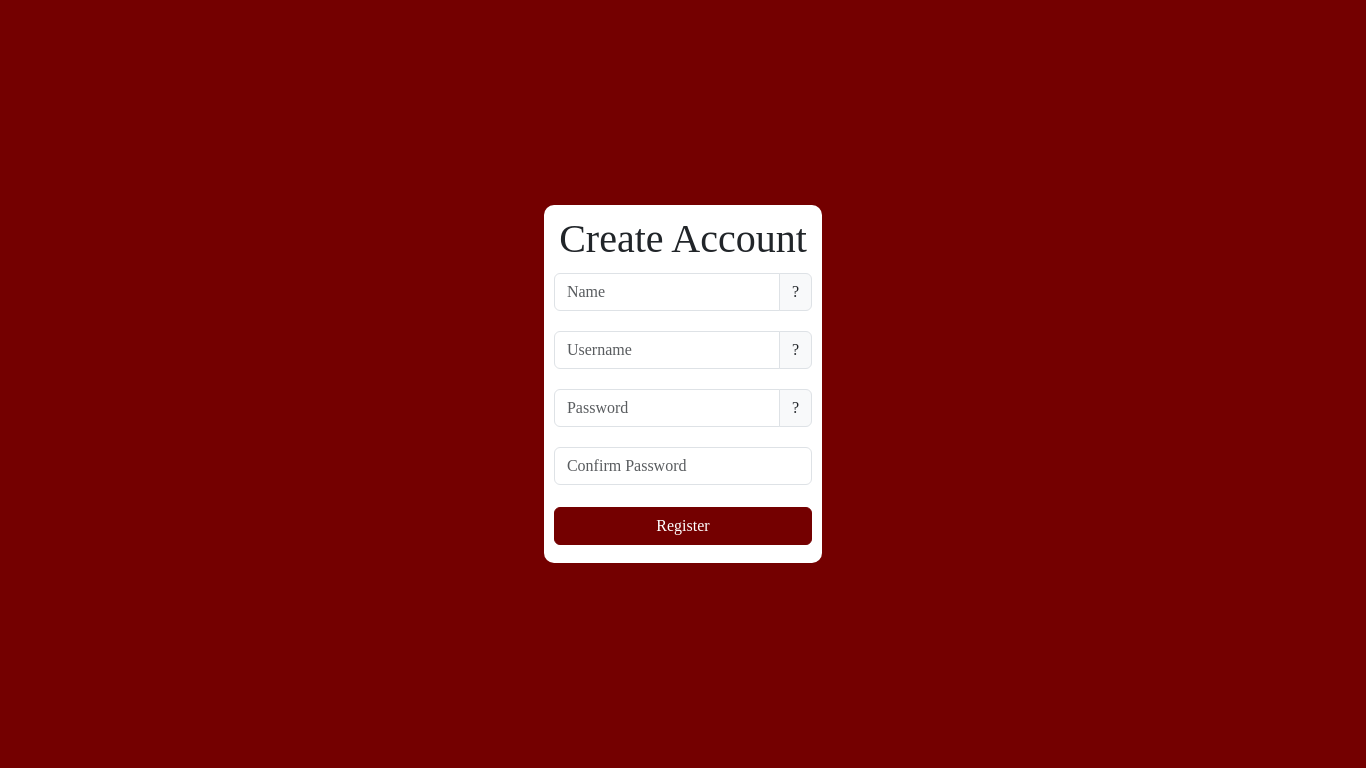
Register Blocked - Passwords Do Not Match
In the field with placeholder "Name": (667, 292) [554,273,780,311], type "Tested"
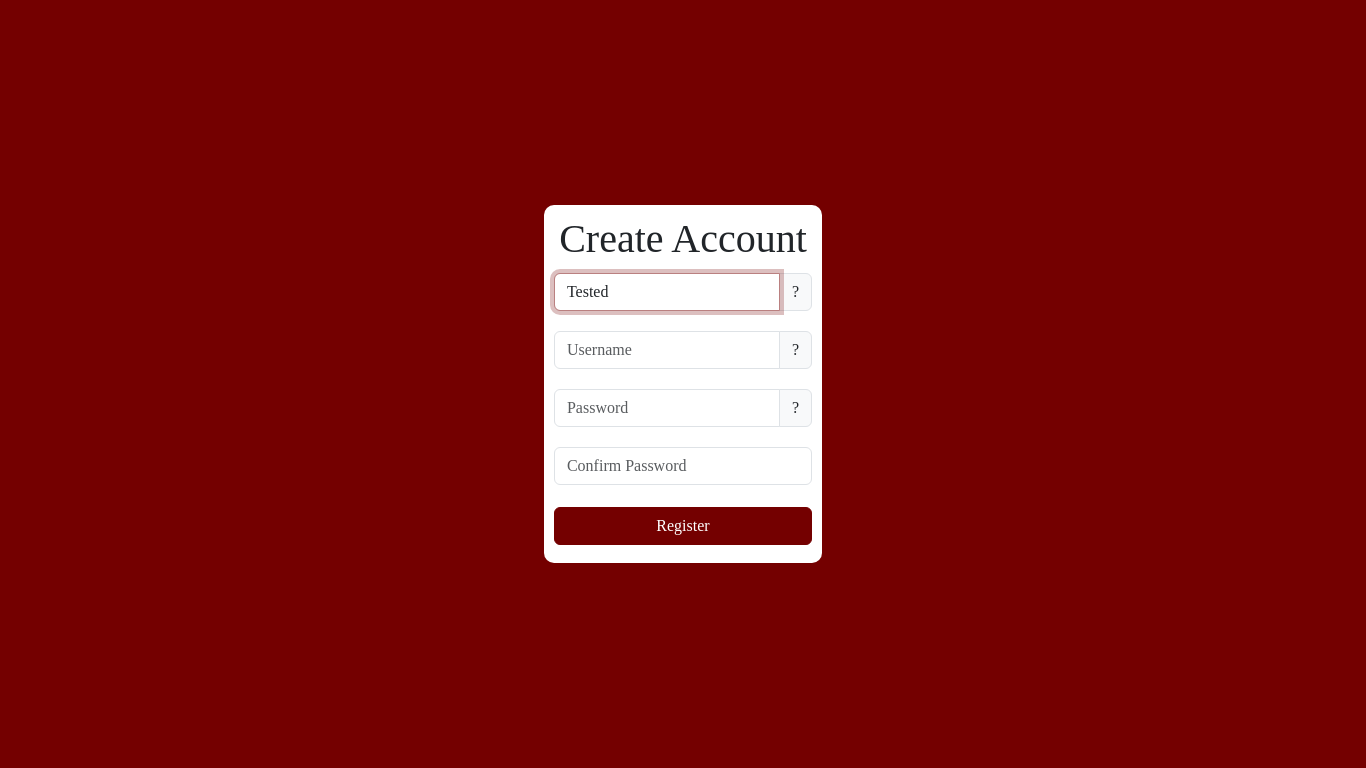
In the field with placeholder "Username": (667, 350) [554,331,780,369], type "NotTested"
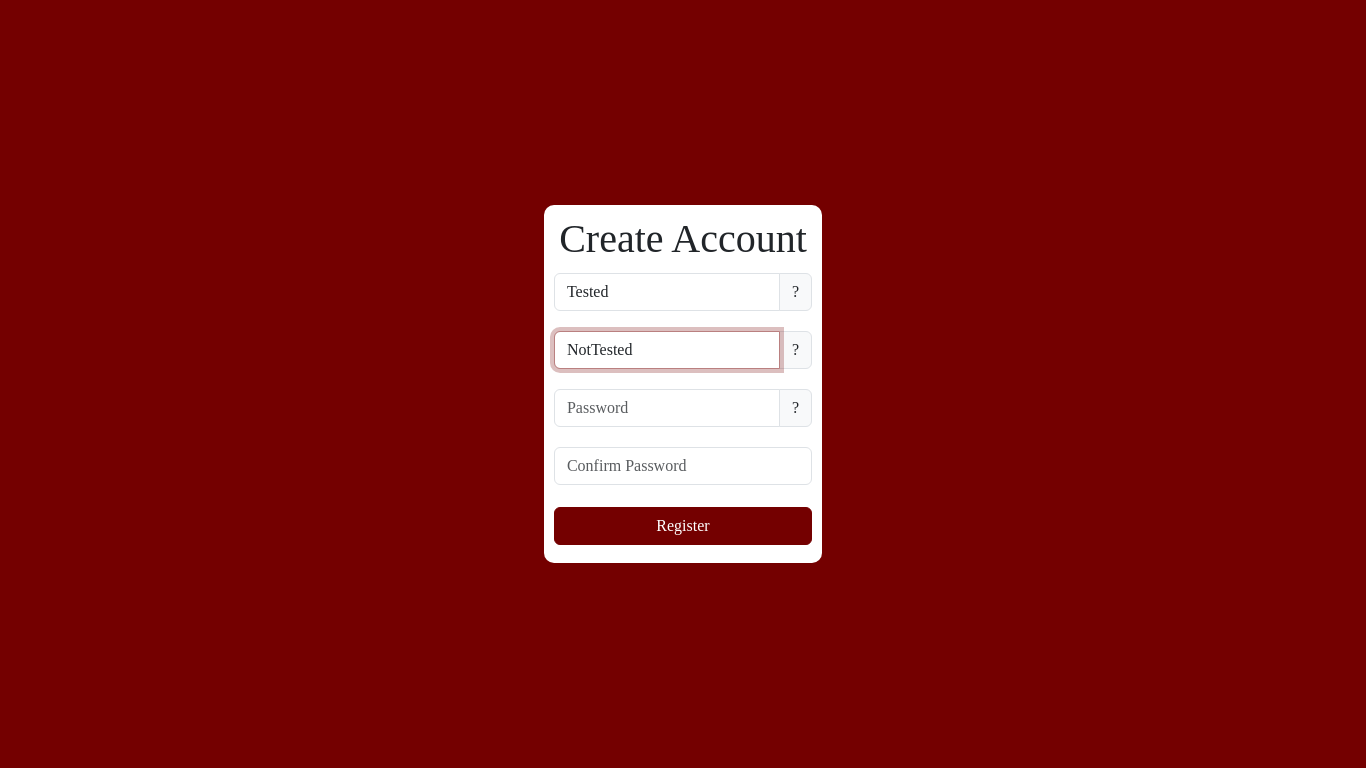
In the password field with placeholder "Password": (667, 408) [554,389,780,427], type "mememememe123"
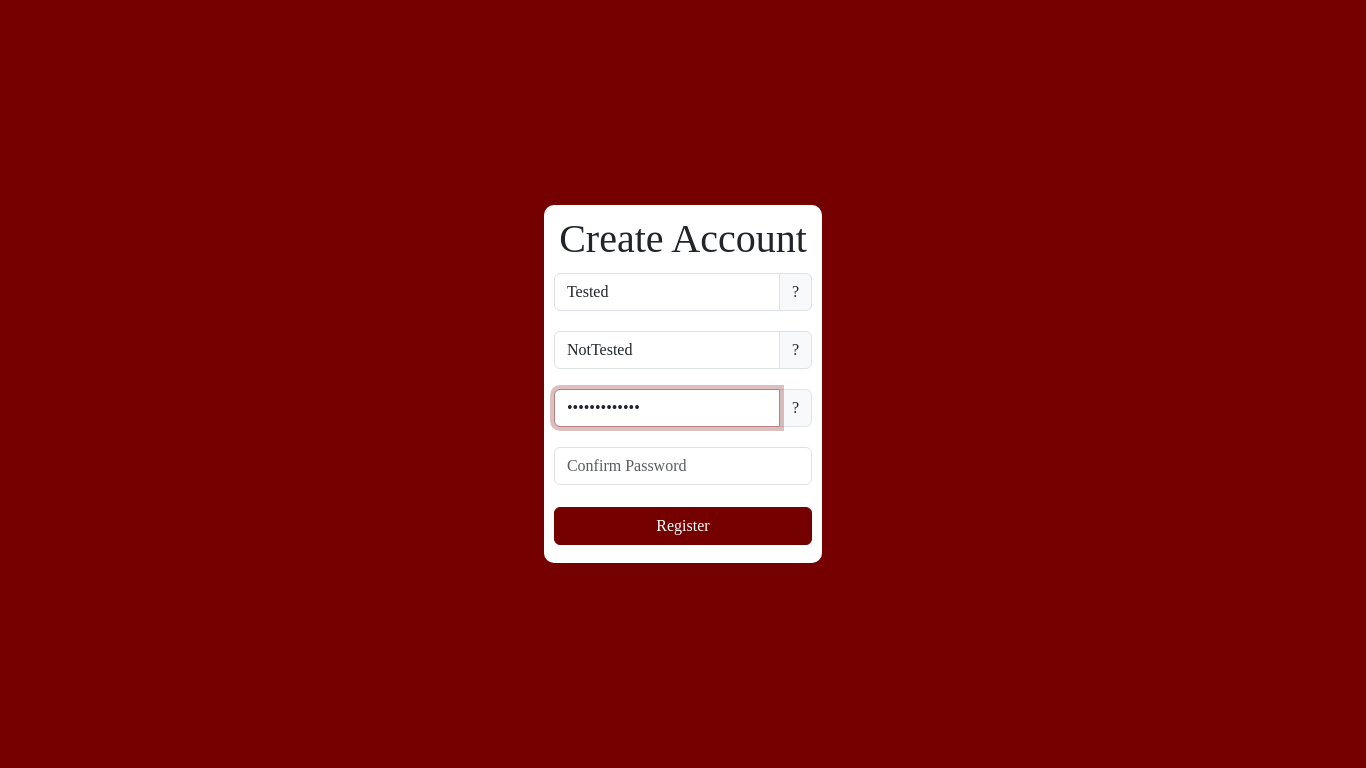
In the password field with placeholder "Confirm Password": (683, 466) [554,447,812,485], type "mememememe12"
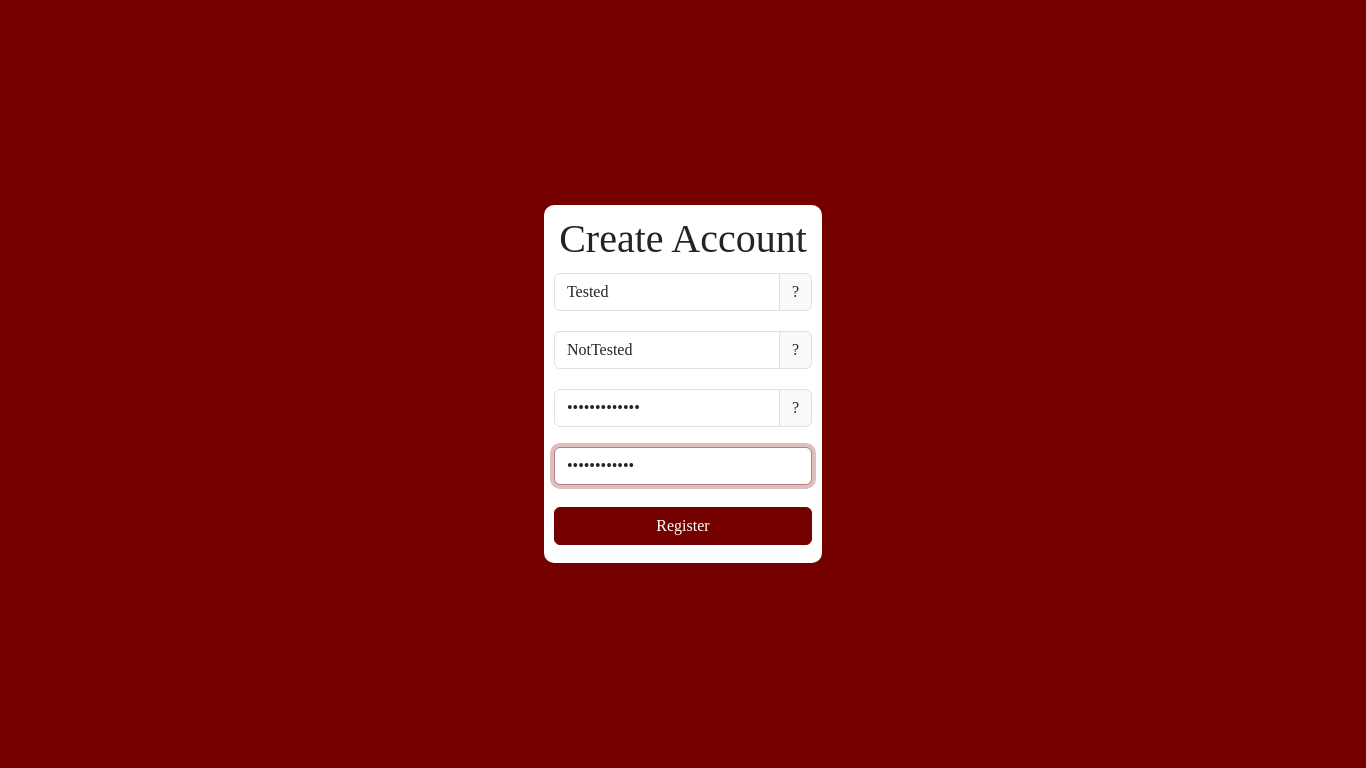
Click the button "Register": click(683, 526) [554,507,812,545]
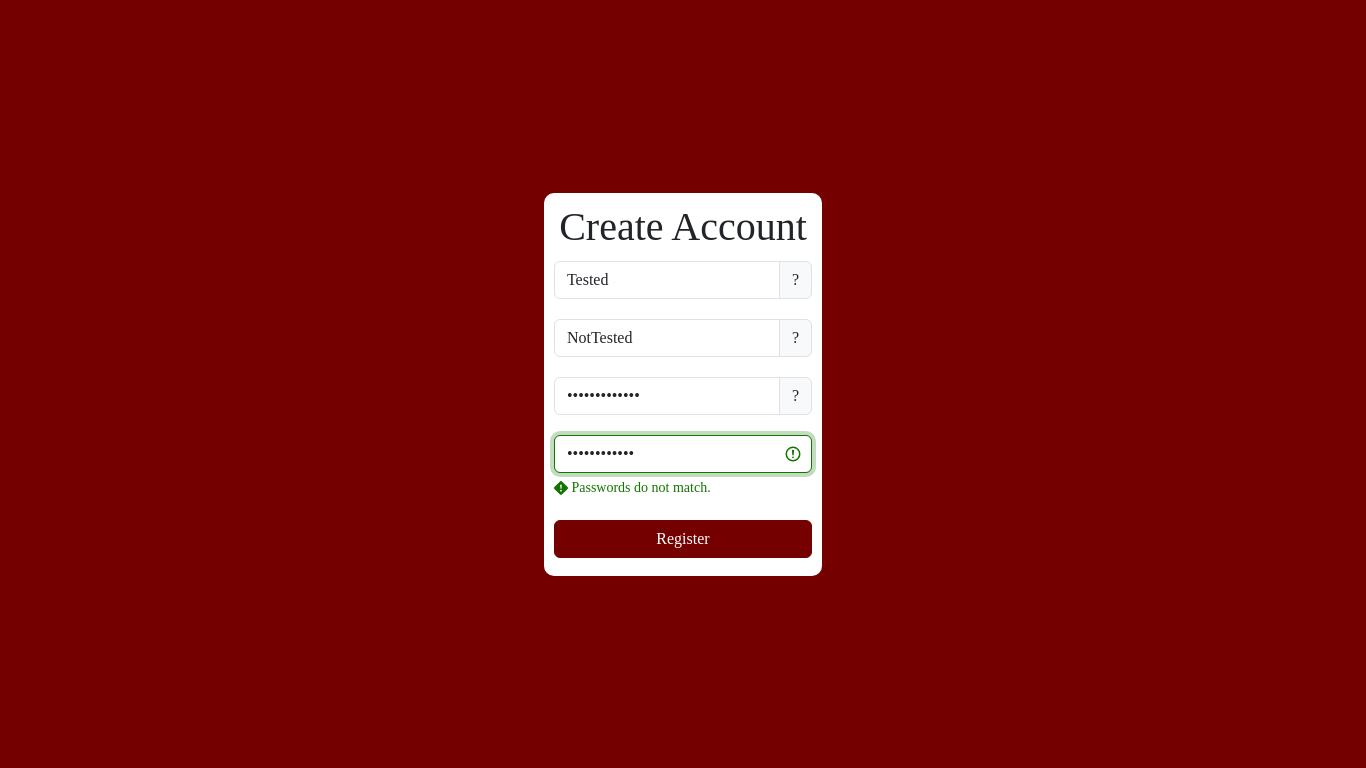
Expected: the text "Passwords do not match." is shown, [554,480,711,495]
